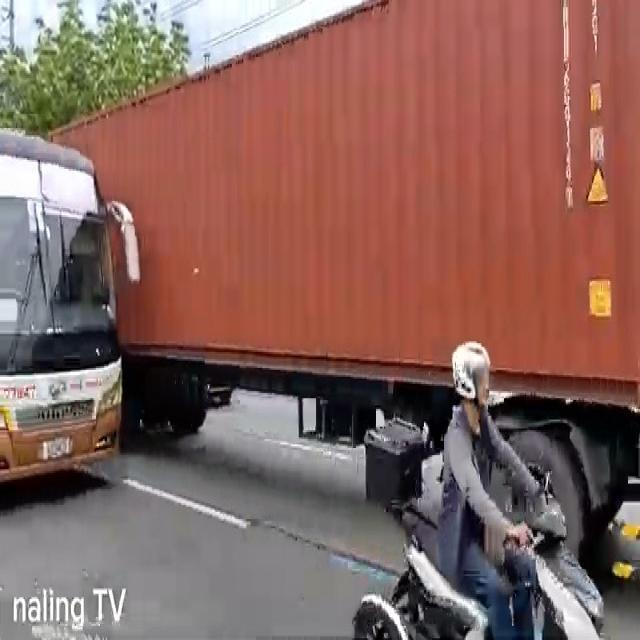bus: (0, 122, 126, 507)
motorcycle: (354, 340, 604, 640)
truck: (48, 0, 640, 583)
